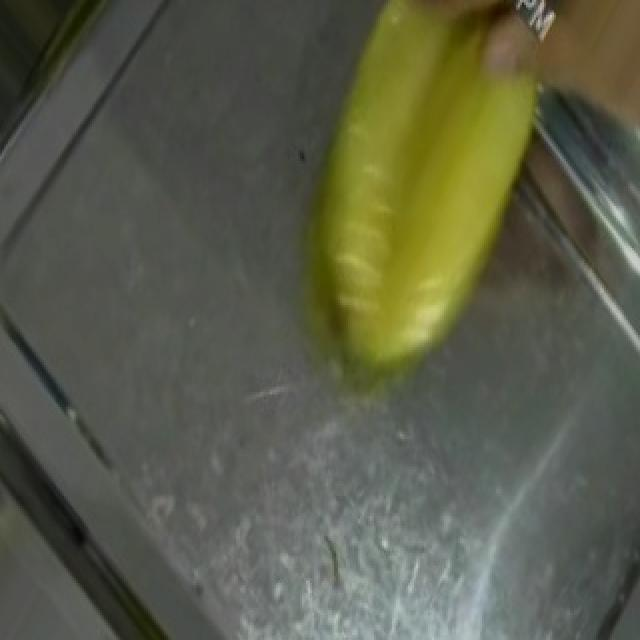fruit: (258, 2, 626, 338)
